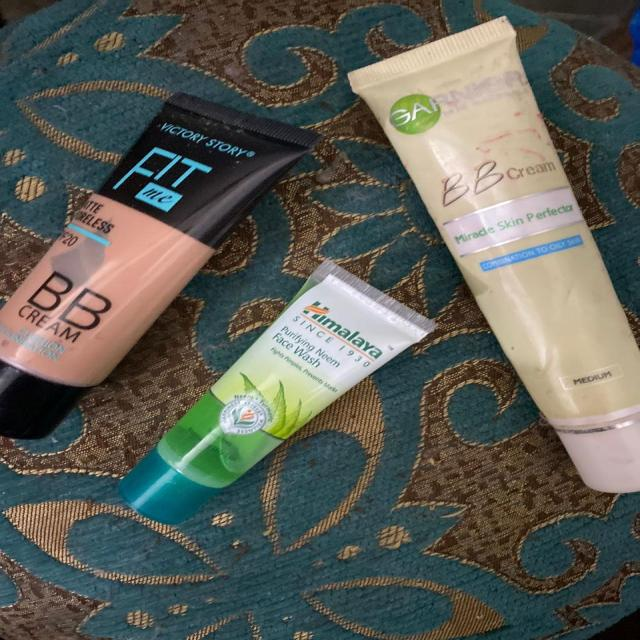bb cream: (338, 15, 640, 498), (0, 77, 335, 431), (100, 252, 440, 550)
